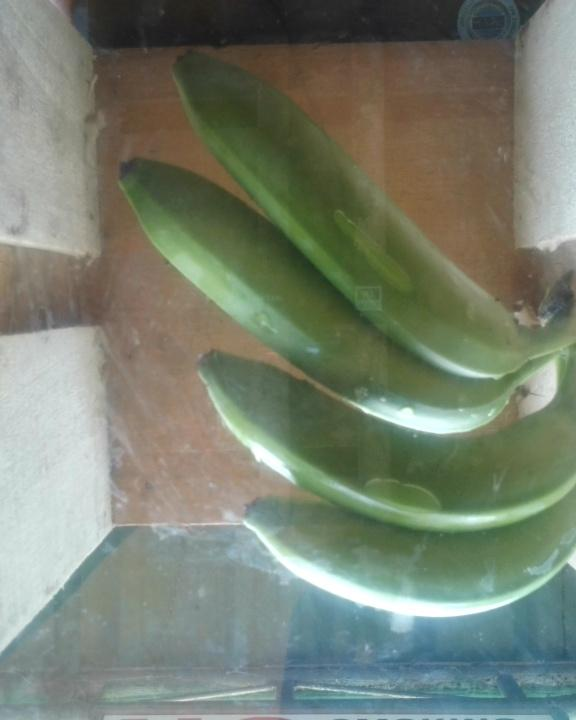SPOT: (113, 48, 576, 625)
